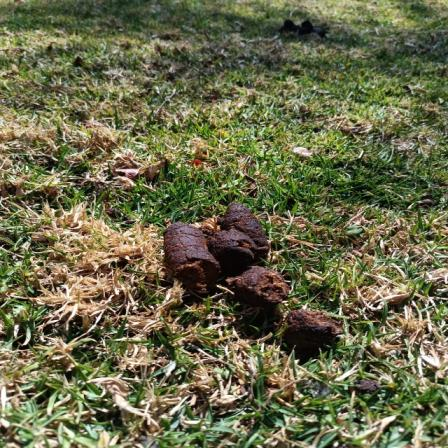dog-poop: (158, 199, 348, 353)
